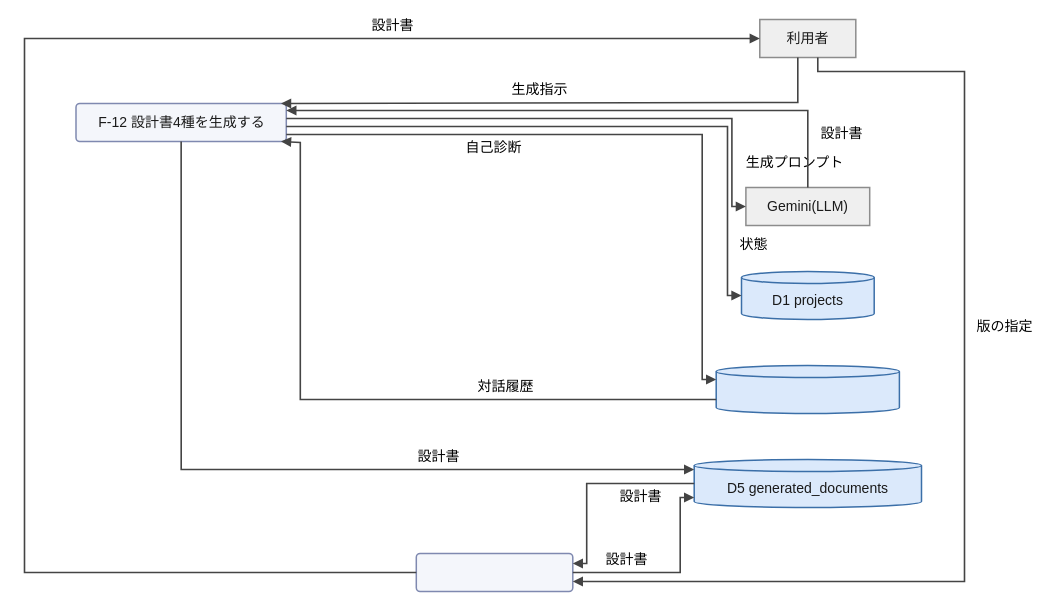
The diagram is 1051 pixels wide and 610 high, and some of its shapes have lost their labels. Here are the shapes that lost their labels. From the top down, the centre of each, then its label:
point (807, 389): D2 chat_histories
point (494, 572): F-16 版を復元する
